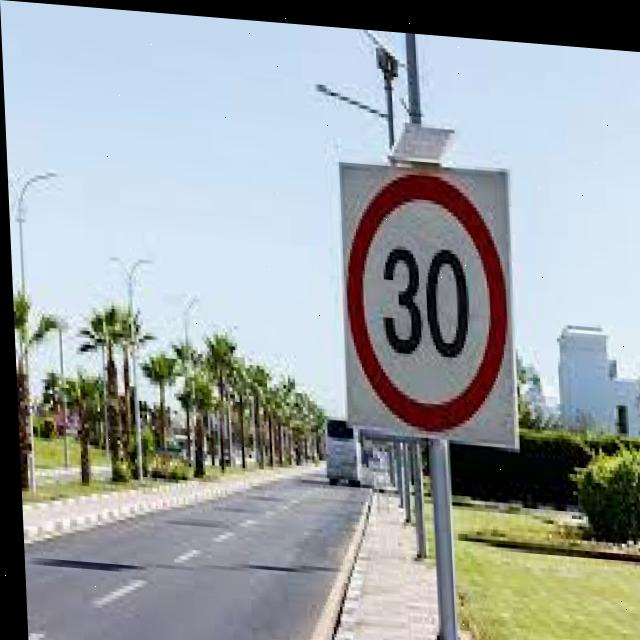Speed limit 30: (334, 150, 517, 441)
